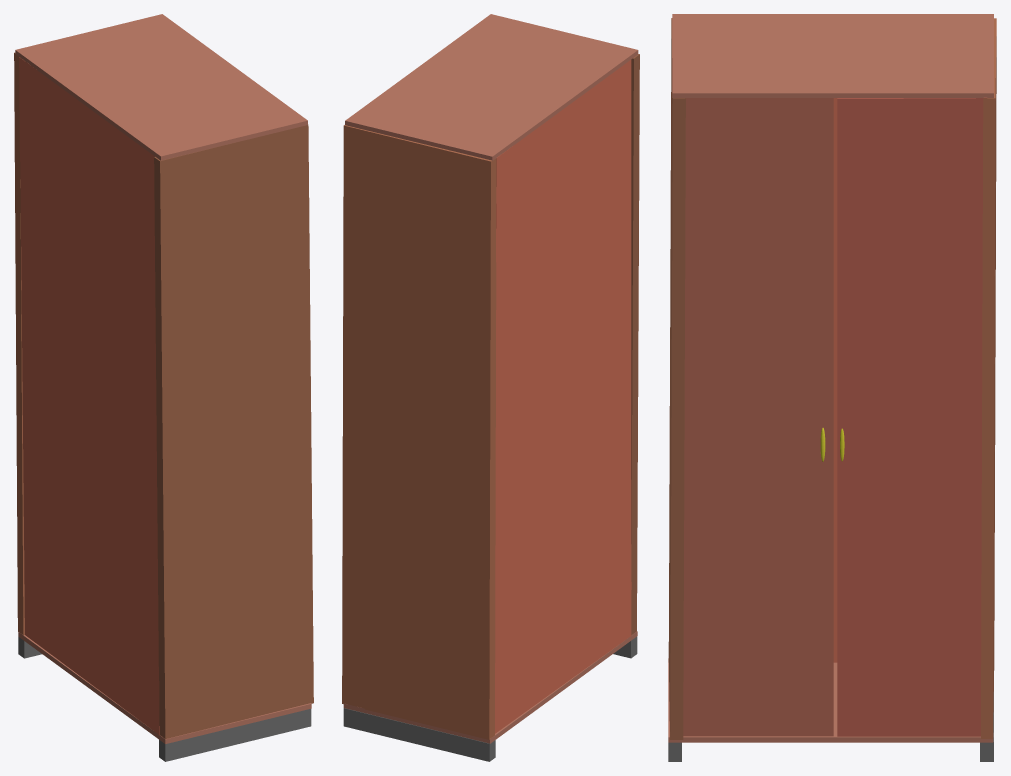
File: wardrobe closet .fbx
3 renders of one model, left to right at view 1: azimuth 30°, elevation 25°; view 2: azimuth 150°, elevation 25°; view 3: azimuth 270°, elevation 25°, orthographic. The views are drawn at different scales.
Visible parts, largest first — view 1: Cube, Cube.006, Cube.003, Cube.001, Cube.007, Cube.005; view 2: Cube.001, Cube.006, Cube.003, Cube, Cube.008, Cube.005; view 3: Cube.004, Cube.002, Cube.003, Cube, Cube.001, Cube.006, Cube.005.
Boxes of the visible parts, x1=… form: Cube: x1=154, y1=124, x2=313, y2=738; Cube.006: x1=19, y1=57, x2=159, y2=735; Cube.003: x1=15, y1=14, x2=307, y2=160; Cube.001: x1=14, y1=52, x2=24, y2=635; Cube.007: x1=159, y1=709, x2=311, y2=761; Cube.005: x1=18, y1=632, x2=311, y2=743; Cube.001: x1=342, y1=125, x2=496, y2=739; Cube.006: x1=495, y1=60, x2=631, y2=733; Cube.003: x1=345, y1=14, x2=638, y2=160; Cube: x1=631, y1=54, x2=639, y2=635; Cube.008: x1=343, y1=708, x2=495, y2=761; Cube.005: x1=343, y1=631, x2=637, y2=743; Cube.004: x1=683, y1=98, x2=833, y2=736; Cube.002: x1=837, y1=97, x2=986, y2=736; Cube.003: x1=672, y1=14, x2=993, y2=97; Cube: x1=668, y1=18, x2=685, y2=739; Cube.001: x1=981, y1=18, x2=996, y2=738; Cube.006: x1=833, y1=98, x2=837, y2=662; Cube.005: x1=668, y1=658, x2=993, y2=742.
Size of the model in its own units: 960 by 3622 by 1615.
